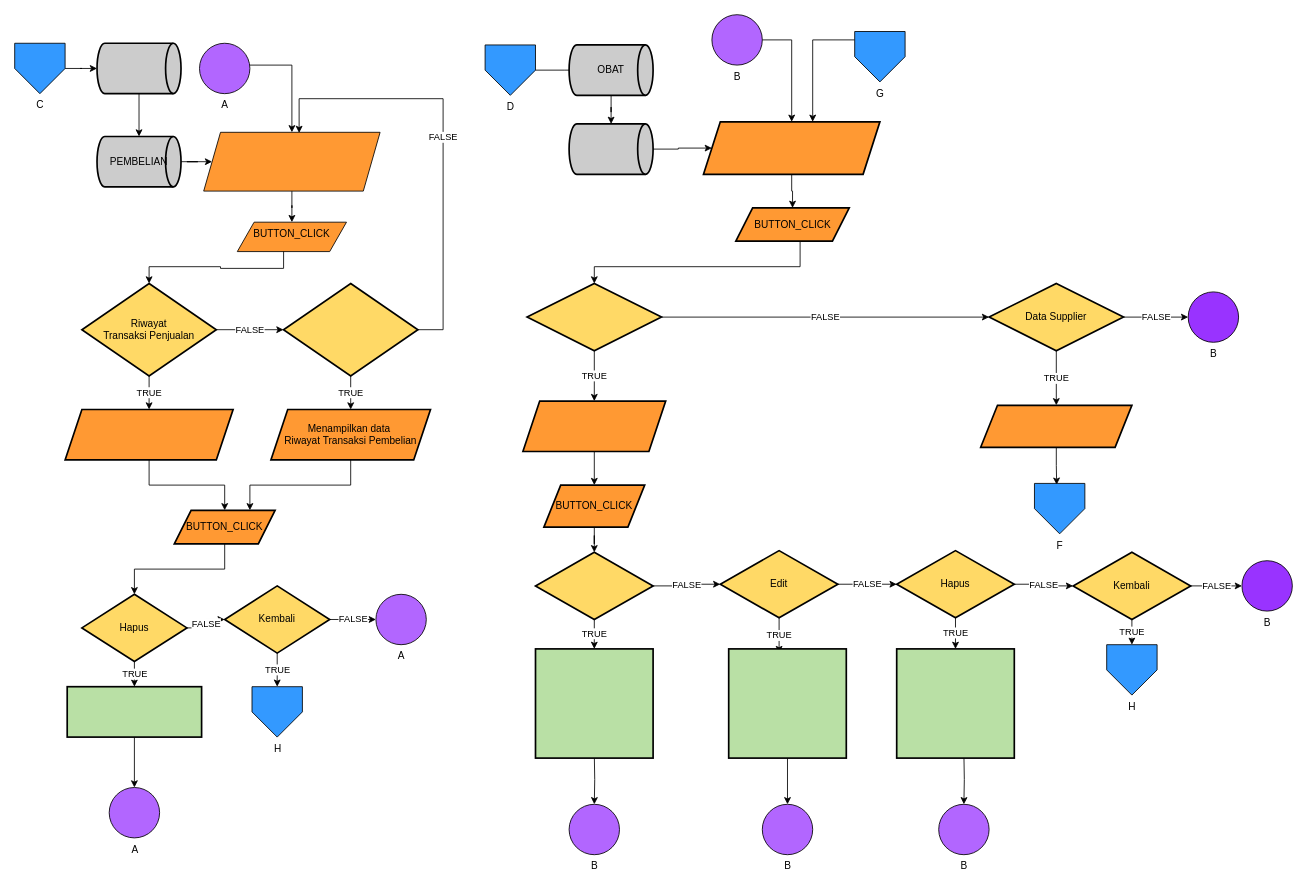
Image size: 1307x887. Some labels were removed from this diagram. The shapes that lost their labels are listed below. From the top down, each one's box as (x1, y1, x2, y2) in pixels, then its label:
(96, 42, 181, 94): PENJUALAN
(203, 131, 380, 191): Menampilkan menu: Riwayat Transaksi Penjualan Riwayat Transaksi Pembelian
(568, 123, 654, 175): SUPPLIER
(702, 121, 880, 175): Menampilkan menu: Obat Supplier
(282, 282, 418, 376): Riwayat Transaksi Pembelian
(526, 282, 662, 351): Data Obat
(64, 408, 234, 460): Menampilkan data Riwayat Transaksi Penjualan
(522, 400, 666, 452): Menampilkan data Obat
(979, 404, 1132, 448): Menampilkan data Supplier
(534, 551, 654, 620): Tambah
(66, 685, 202, 738): Proses Penghapusan Data berdasarkan id
(534, 648, 654, 759): INSERT id Obat (Otomatis) Nama Obat Harga Beli Harga Jual Stok
(727, 648, 847, 759): UPDATE id Obat (Otomatis) Nama Obat Harga Beli Harga Jual Stok
(895, 648, 1015, 759): DELETE data berdasarkan ID Obat
